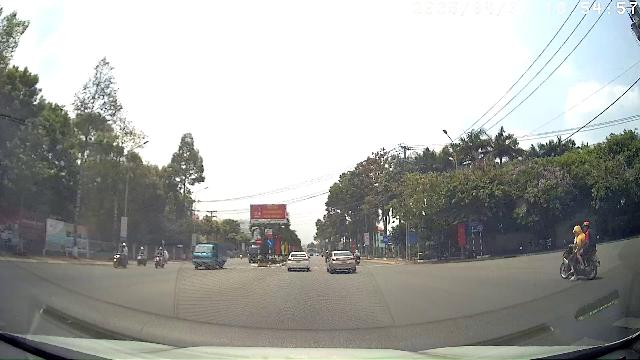102-cam-di-nguoc-chieu: (255, 239, 262, 246)
302a-huong-phai-di-vong-chuong-ngai-vat-1: (266, 239, 274, 246)
